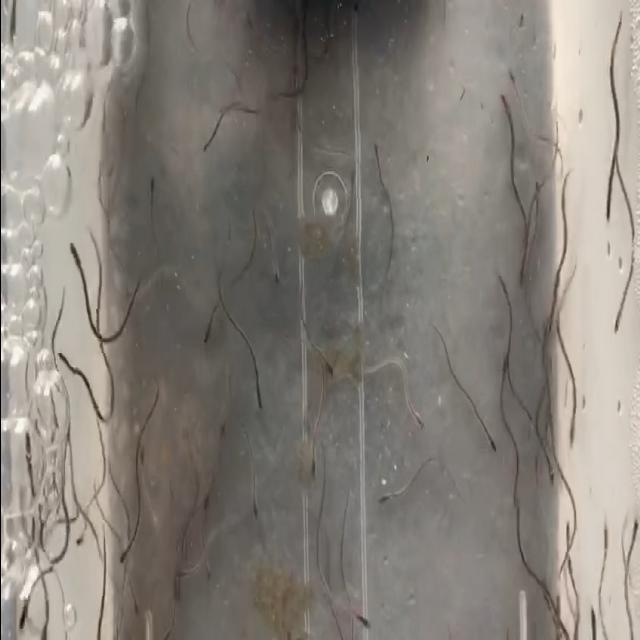active_glass_eel: (68, 234, 88, 275), (200, 122, 220, 160), (596, 510, 610, 562), (250, 362, 264, 413), (245, 478, 260, 522), (611, 291, 625, 338), (72, 514, 90, 550), (588, 597, 603, 640), (318, 350, 338, 382), (481, 420, 498, 457), (566, 402, 578, 450), (560, 520, 573, 564), (351, 609, 373, 635), (377, 486, 397, 514), (629, 516, 640, 564), (172, 560, 192, 586), (15, 600, 31, 632), (200, 315, 217, 345), (308, 447, 320, 489), (369, 138, 384, 170), (116, 542, 136, 566), (4, 18, 20, 48), (508, 68, 522, 102), (145, 167, 159, 201), (516, 245, 526, 292), (544, 452, 556, 491), (498, 83, 510, 121), (128, 588, 142, 620), (271, 247, 281, 291), (604, 198, 616, 232), (22, 427, 32, 464), (532, 179, 544, 209), (137, 444, 149, 474), (410, 406, 424, 430), (204, 554, 214, 584), (500, 353, 508, 386), (57, 350, 72, 367)
